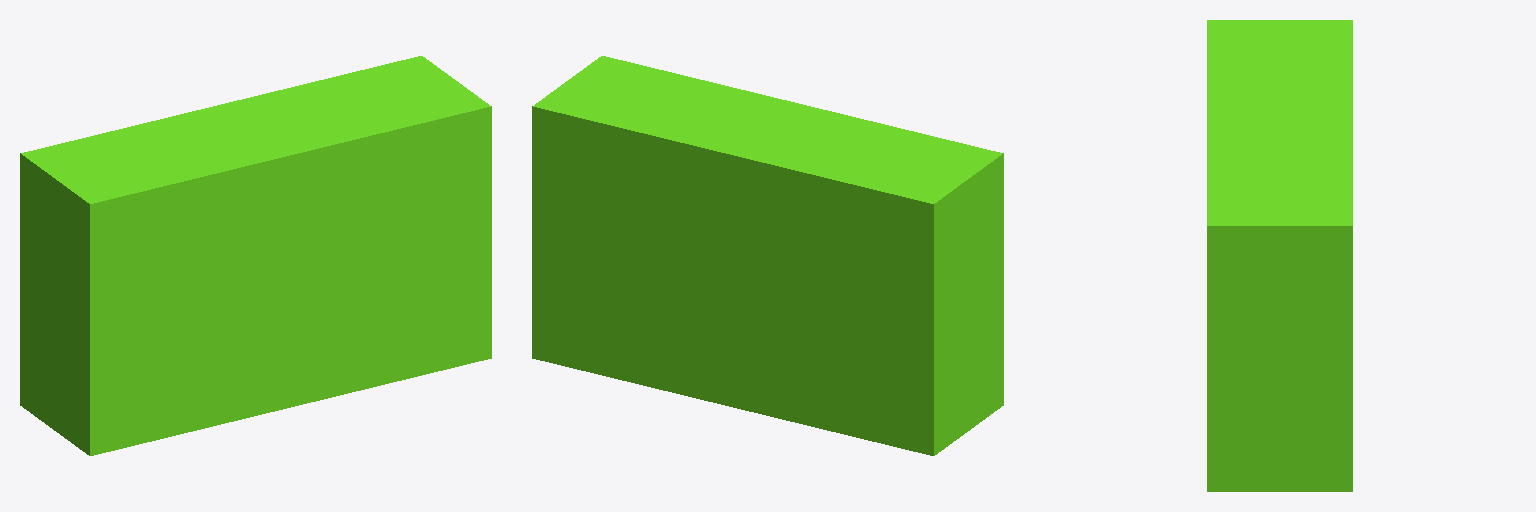
robot.urdf — triangular_prism:
<?xml version='1.0' encoding='UTF-8'?>
<robot name="triangular_prism">
  <link name="base_link">
    <inertial>
      <origin xyz="0.0 0.0 0.0" rpy="0.0 -0.0 0.0"/>
      <mass value="1.0"/>
      <inertia ixx="1.0" ixy="0.0" ixz="0.0" iyy="1.0" iyz="0.0" izz="1.0"/>
    </inertial>
    <visual name="base_link_visual">
      <geometry>
        <box size="1.443 0.433 0.866"/>
      </geometry>
      <origin xyz="0 0 0" rpy="0 0 0"/>
      <material name="object_color">
        <color rgba="0.5 0.95 0.2 1"/>
      </material>
    </visual>
    <collision name="base_link_collision">
      <geometry>
        <box size="1.443 0.433 0.866"/>
      </geometry>
      <origin xyz="0 0 0" rpy="0 0 0"/>
    </collision>
  </link>
</robot> 

--- Facts derived from the render (not from the file) ---
3 views of the same robot in one strip: view 1: azimuth 30°, elevation 25°; view 2: azimuth 150°, elevation 25°; view 3: azimuth 270°, elevation 25° (orthographic).
Robot: triangular_prism — 1 links, 0 joints (none); root link base_link; default pose: all joints at 0.
Links seen in each view (by area): view 1: base_link; view 2: base_link; view 3: base_link.
Boxes of the visible links, bbox=[...] form: base_link: bbox=[20, 56, 491, 455]; base_link: bbox=[532, 56, 1003, 455]; base_link: bbox=[1207, 20, 1352, 491].
Size in the robot's own frame: 1.44 by 0.433 by 0.866 metres.
Geometry: primitives only (box / cylinder / sphere), no mesh files.
